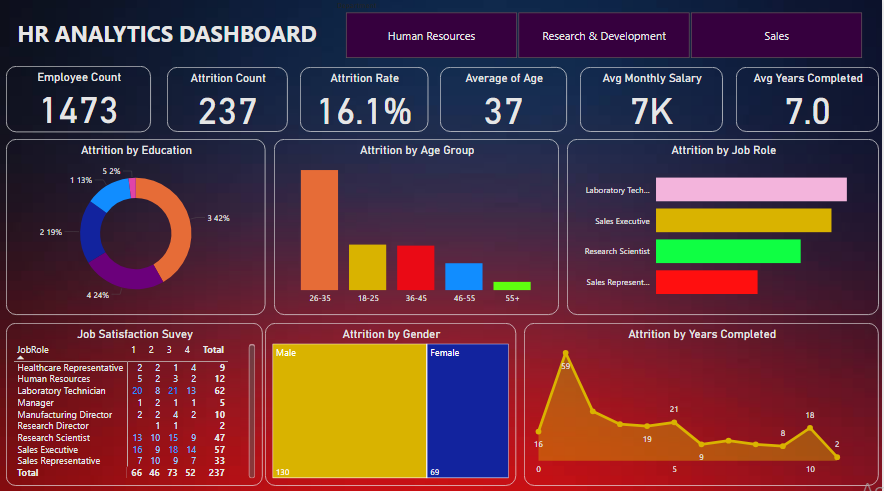

The dashboard page shown, as its layout file describes it:
{"tool":"powerbi","page":{"name":"Page 1","canvas":[1280,720],"ordinal":0},"visuals":[{"type":"card","title":"Employee Count","fields":{"Values":["CountNonNull(HR_Analytics.EmpID)"]},"box":[11,98.2,176.1,96.3],"z":0},{"type":"card","title":"Avg Years Completed","fields":{"Values":["Avg(HR_Analytics.YearsAtCompany)"]},"box":[978,100,195.4,94.5],"z":1000},{"type":"card","title":"Attrition Rate","fields":{"Values":["HR_Analytics.AttritionRate"]},"box":[387.2,100,192.7,94.5],"z":2000},{"type":"card","title":"Attrition Count","fields":{"Values":["HR_Analytics.Attrition Count"]},"box":[199.1,100,176.1,94.5],"z":3000},{"type":"card","title":"Average of Age","fields":{"Values":["Avg(HR_Analytics.Age)"]},"box":[594.5,100,156.9,94.5],"z":4000},{"type":"card","title":"Avg Monthly Salary","fields":{"Values":["Avg(HR_Analytics.MonthlyIncome)"]},"box":[762.4,100,199.1,94.5],"z":5000},{"type":"donutChart","title":"Attrition by Education","fields":{"Category":["HR_Analytics.Education"],"Y":["HR_Analytics.Attrition Count"]},"box":[11,203.7,376.1,255],"z":6000},{"type":"columnChart","title":"Attrition by Age Group","fields":{"Y":["HR_Analytics.Attrition Count"],"Category":["HR_Analytics.AgeGroup"]},"box":[400,203.7,412.8,255],"z":7000},{"type":"pivotTable","title":"Job Satisfaction Suvey","fields":{"Rows":["HR_Analytics.JobRole"],"Columns":["HR_Analytics.JobSatisfaction"],"Values":["HR_Analytics.Attrition Count"]},"box":[19.9,471.3,364.3,235.7],"z":8001},{"type":"barChart","title":"Attrition by Job Role","fields":{"Category":["HR_Analytics.JobRole"],"Y":["HR_Analytics.Attrition Count"]},"box":[824.8,203.7,452.3,255],"z":8002},{"type":"areaChart","title":"Attrition by Years Completed","fields":{"Y":["HR_Analytics.Attrition Count"],"Category":["HR_Analytics.YearsAtCompany"]},"box":[762.5,471.4,514.3,235.7],"z":8003},{"type":"treemap","title":"Attrition by Gender","fields":{"Values":["HR_Analytics.Attrition Count"],"Group":["HR_Analytics.Gender"]},"box":[387.5,471.4,364.3,235.7],"z":8004},{"type":"slicer","fields":{"Values":["HR_Analytics.Department"]},"box":[478.9,0,798.2,94.5],"z":8005},{"type":"textbox","box":[23.2,23.2,478.6,71.4],"z":8006}]}

Visuals, with their boxes in screenshot pixels (x1, y1, x2, y2), scaled from the page's 1280x720 canvas onto the 884x491 screenshot:
"Employee Count" card: left=8, top=67, right=129, bottom=133
"Avg Years Completed" card: left=675, top=68, right=810, bottom=133
"Attrition Rate" card: left=267, top=68, right=400, bottom=133
"Attrition Count" card: left=138, top=68, right=259, bottom=133
"Average of Age" card: left=411, top=68, right=519, bottom=133
"Avg Monthly Salary" card: left=527, top=68, right=664, bottom=133
"Attrition by Education" donutChart: left=8, top=139, right=267, bottom=313
"Attrition by Age Group" columnChart: left=276, top=139, right=561, bottom=313
"Job Satisfaction Suvey" pivotTable: left=14, top=321, right=265, bottom=482
"Attrition by Job Role" barChart: left=570, top=139, right=882, bottom=313
"Attrition by Years Completed" areaChart: left=527, top=321, right=882, bottom=482
"Attrition by Gender" treemap: left=268, top=321, right=519, bottom=482
slicer - HR_Analytics.Department: left=331, top=0, right=882, bottom=64
textbox: left=16, top=16, right=347, bottom=65
